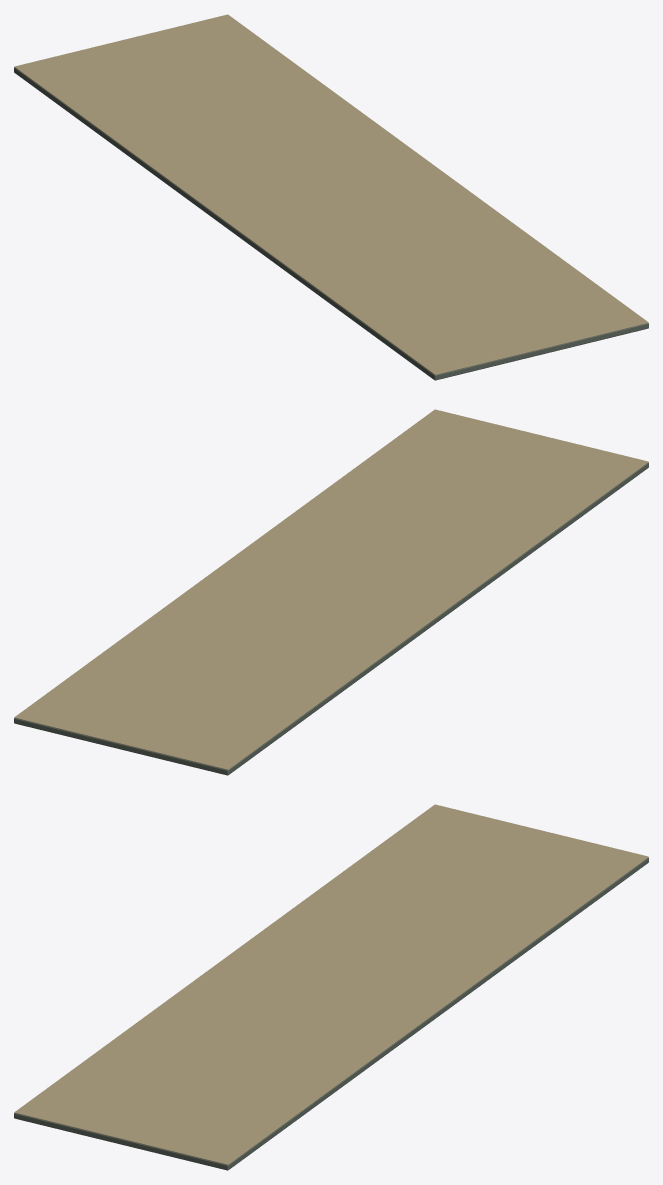
Rendered from presentation_stage.glb.
The picture shows the model from 3 angles, top to bottom: view 1: azimuth 30°, elevation 25°; view 2: azimuth 150°, elevation 25°; view 3: azimuth 330°, elevation 25°; orthographic projection.
Parts seen in each view (by area): view 1: Presentation_ThinSedimentLayer, Presentation_StoneEdge; view 2: Presentation_ThinSedimentLayer, Presentation_StoneEdge; view 3: Presentation_ThinSedimentLayer, Presentation_StoneEdge.
Boxes of the visible parts, bbox=[...] form: Presentation_ThinSedimentLayer: bbox=[14, 14, 648, 374]; Presentation_StoneEdge: bbox=[14, 67, 648, 380]; Presentation_ThinSedimentLayer: bbox=[14, 409, 648, 769]; Presentation_StoneEdge: bbox=[14, 462, 648, 775]; Presentation_ThinSedimentLayer: bbox=[14, 804, 648, 1164]; Presentation_StoneEdge: bbox=[14, 857, 648, 1170].
Size of what is drawn, in the model's own units: 14.74 by 0.4175 by 50.12.
